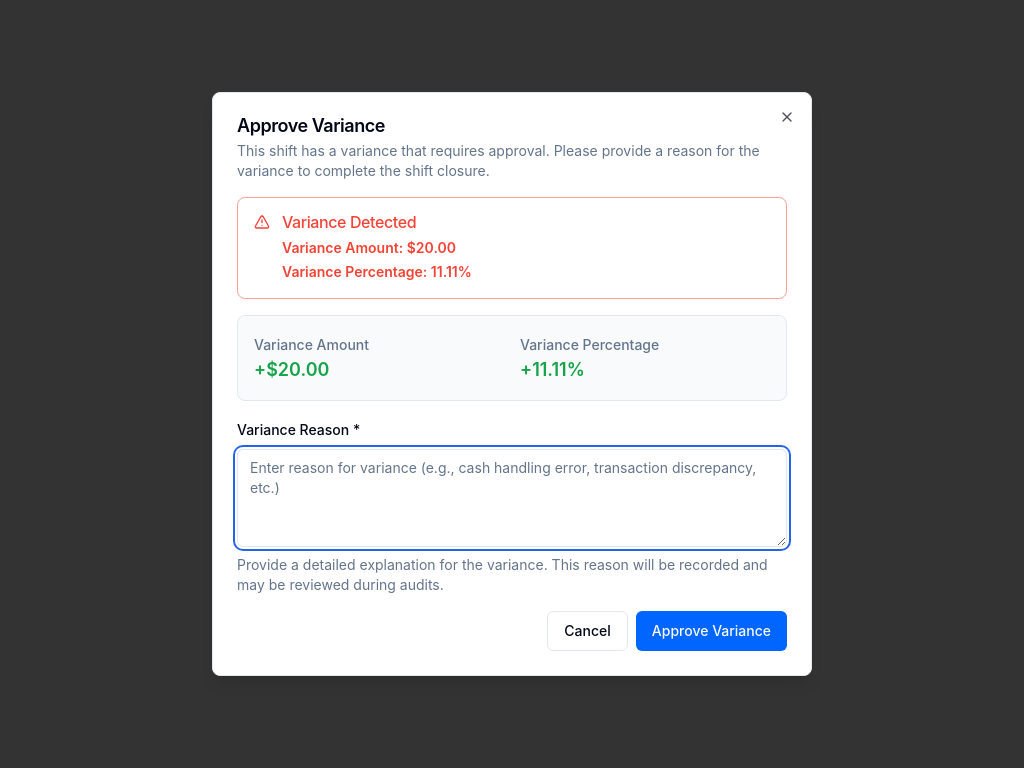
Test: 4.7-COMPONENT: VarianceApprovalDialog Component › [P0] 4.7-COMPONENT-052: should require variance reason
The image size is (1024, 768).
# Form is submitted without variance reason
What coordinates should you click on to do the following:
click the button with test id "submit-variance-approval"
I would click on:
 (711, 631)
Its box is [636, 611, 787, 651].
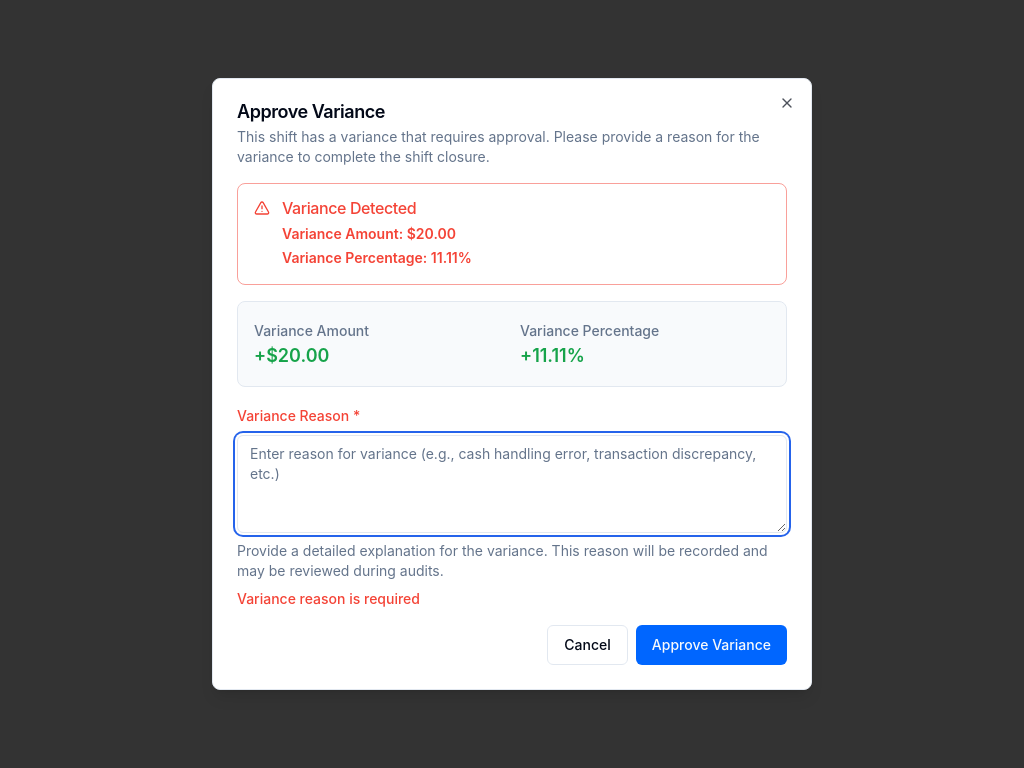
Now the text "Variance reason is required" is shown, box [237, 590, 420, 607]
